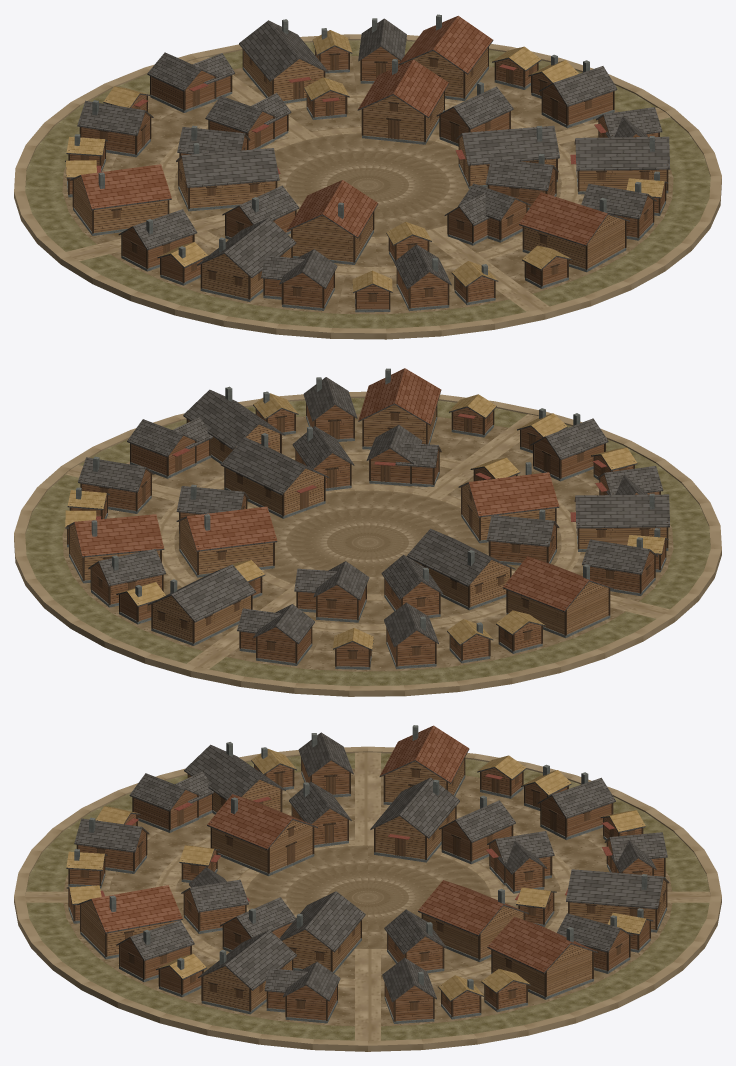
The model's file is ae_sand_village_large_lod0.glb.
3 renders of one model, top to bottom at view 1: azimuth 30°, elevation 25°; view 2: azimuth 150°, elevation 25°; view 3: azimuth 270°, elevation 25°, orthographic.
Parts seen in each view (by area): view 1: ae_sand_village_large_lod0; view 2: ae_sand_village_large_lod0; view 3: ae_sand_village_large_lod0.
Part boxes in pixels (left/top/right/bottom): ae_sand_village_large_lod0: left=14, top=14, right=721, bottom=339; ae_sand_village_large_lod0: left=14, top=368, right=721, bottom=696; ae_sand_village_large_lod0: left=14, top=725, right=721, bottom=1051.
Size of the model in its own units: 1.9 by 0.1715 by 1.9.
Materials: 1 (1 with a texture image).
